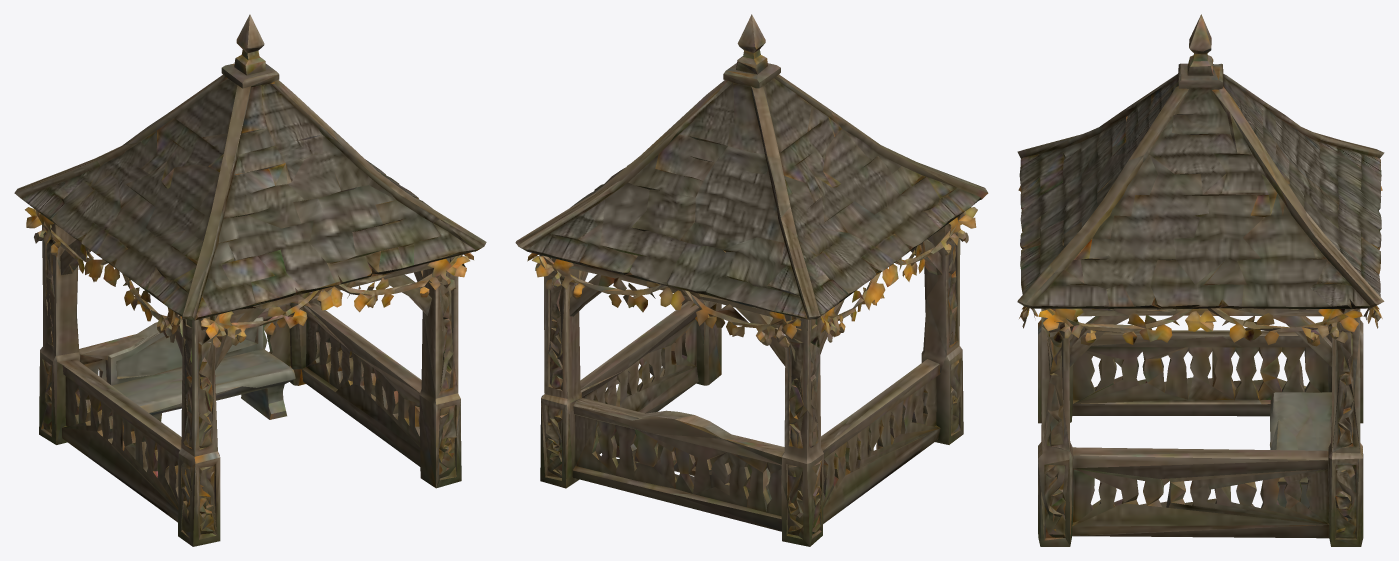
The model's file is gazebo.glb.
The picture shows the model from 3 angles, left to right: view 1: azimuth 30°, elevation 25°; view 2: azimuth 150°, elevation 25°; view 3: azimuth 270°, elevation 25°; orthographic projection. The views are drawn at different scales.
Parts seen in each view (by area): view 1: Mesh_0; view 2: Mesh_0; view 3: Mesh_0.
Boxes of the visible parts, x1=… form: Mesh_0: x1=14, y1=14, x2=486, y2=546; Mesh_0: x1=515, y1=14, x2=988, y2=546; Mesh_0: x1=1017, y1=14, x2=1384, y2=546.
Bounding box in the file's own units: 1.36 × 1.9 × 1.36.
1 material, 1 textured.
